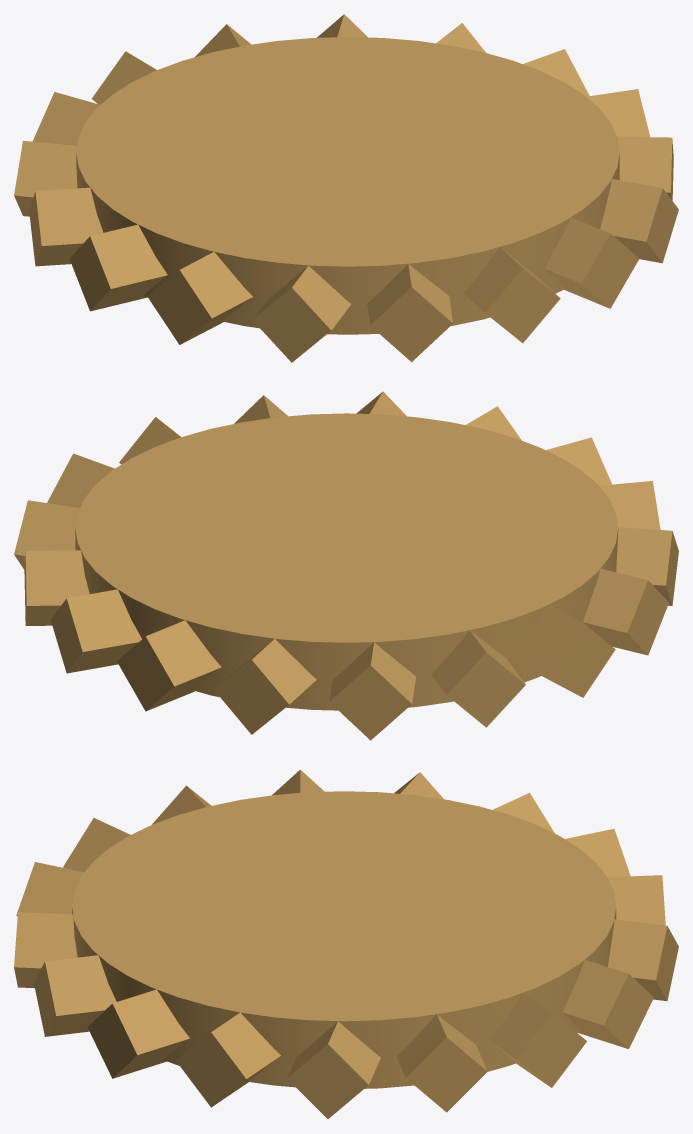
File: Foundry.glb
The picture shows the model from 3 angles, top to bottom: view 1: azimuth 30°, elevation 25°; view 2: azimuth 150°, elevation 25°; view 3: azimuth 270°, elevation 25°; orthographic projection.
Parts seen in each view (by area): view 1: Ratchet hub, Ratchet tooth (×17); view 2: Ratchet hub, Ratchet tooth (×17); view 3: Ratchet hub, Ratchet tooth (×17).
Boxes of the visible parts, x1,y1,x2,y2 form: Ratchet hub: (76,37,619,334); Ratchet tooth (×17): (14,14,678,362); Ratchet hub: (75,413,618,710); Ratchet tooth (×17): (14,391,678,740); Ratchet hub: (72,791,616,1088); Ratchet tooth (×17): (14,769,678,1118).
Bounding box in the file's own units: 0.4165 × 0.052 × 0.4154.
